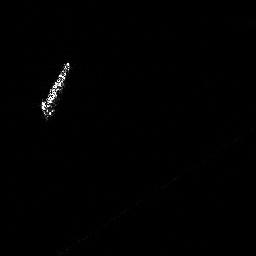ship: (40, 60, 71, 122)
